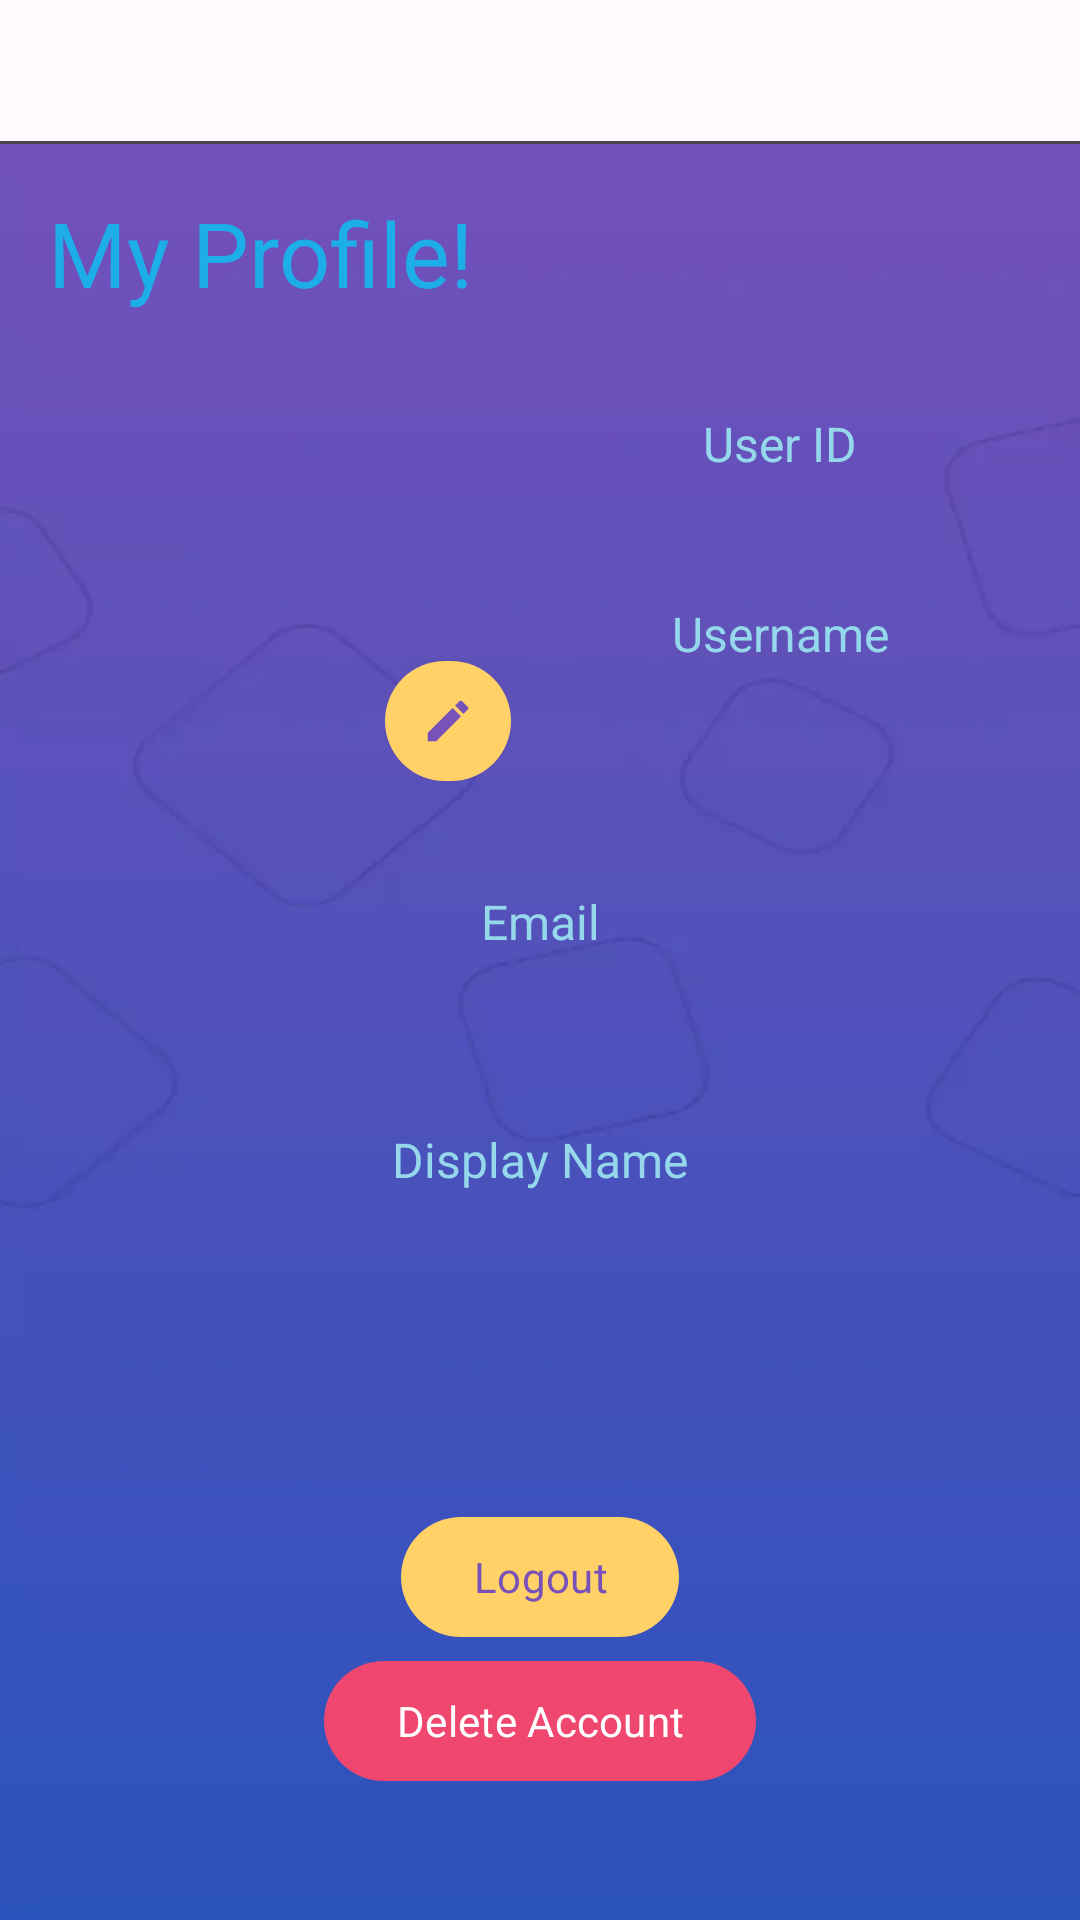

Point at icon controls on the screen. Image size 1080×1920, points as [x,y].
edit: [448,721]
